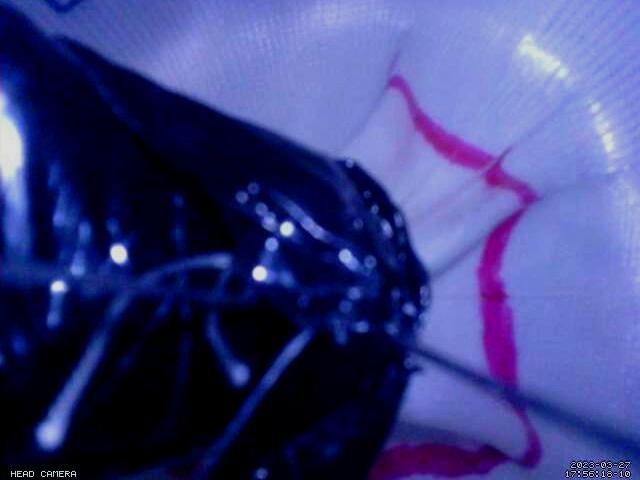red-circle: (368, 74, 545, 480)
